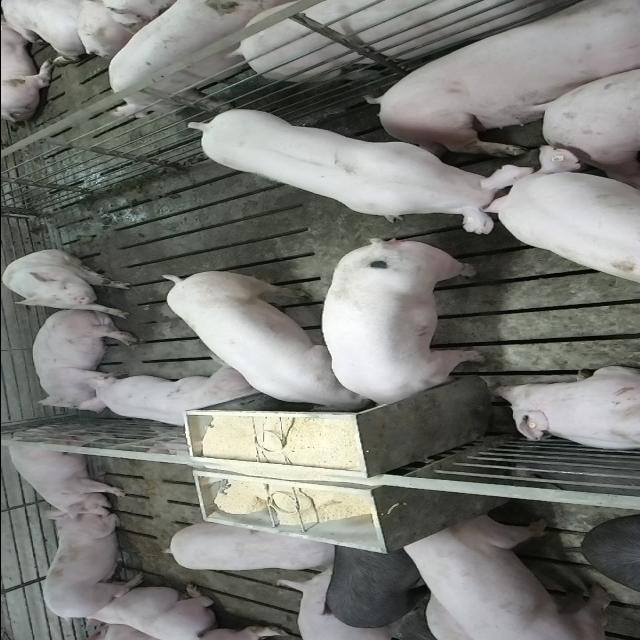Feeding: (160, 264, 368, 412), (321, 242, 485, 416)
Lateral_lying: (368, 5, 640, 158), (30, 307, 140, 413)
Sitting: (2, 250, 134, 314)
Standing: (188, 104, 532, 230), (224, 0, 632, 84), (394, 516, 626, 638), (102, 0, 294, 118), (488, 144, 640, 284), (37, 510, 143, 619), (5, 430, 130, 519), (160, 523, 332, 575), (322, 544, 424, 630)
Sternal_lying: (490, 366, 640, 452), (84, 367, 263, 431), (76, 584, 214, 639)
